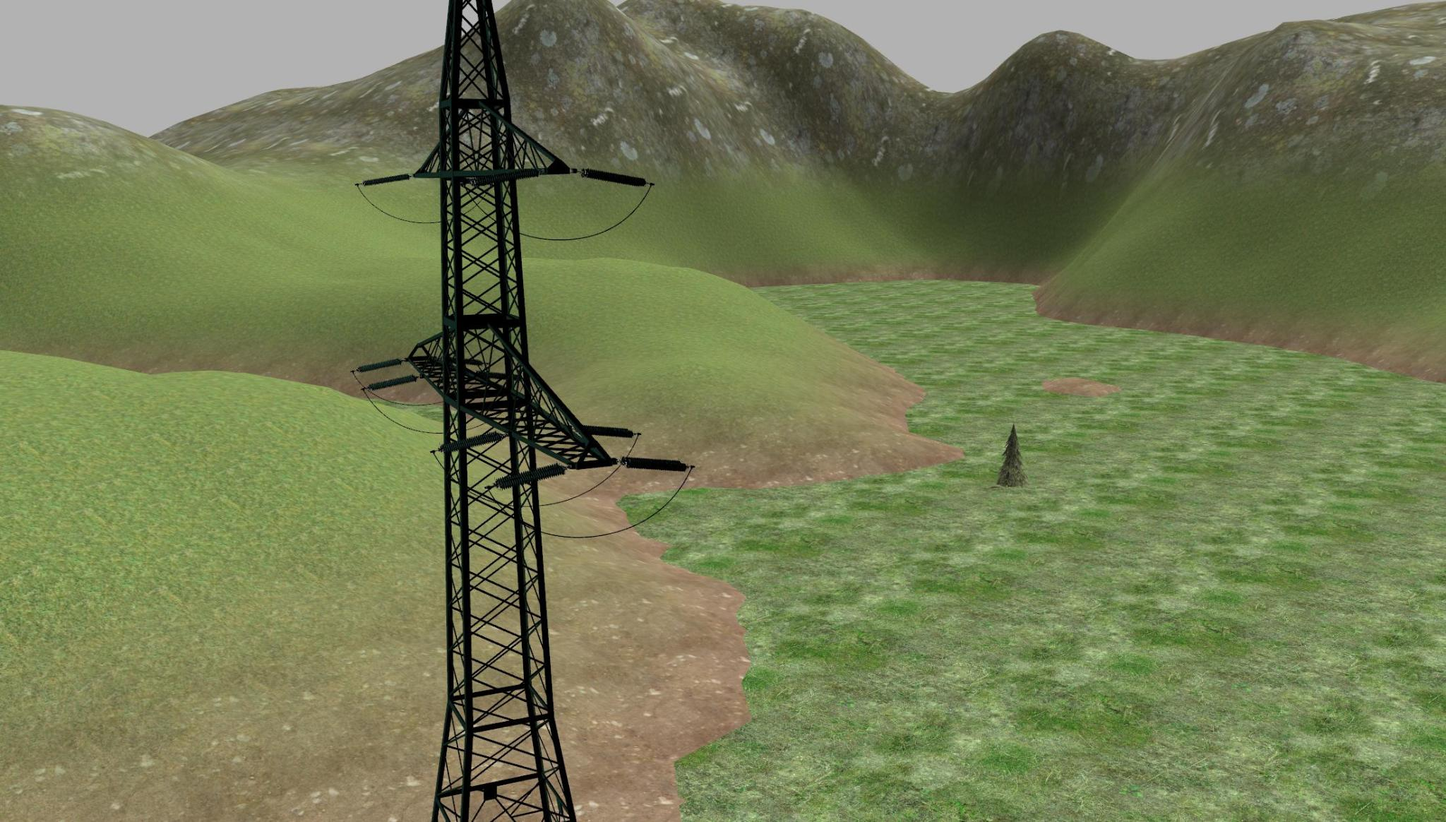tower: (408, 3, 602, 822)
